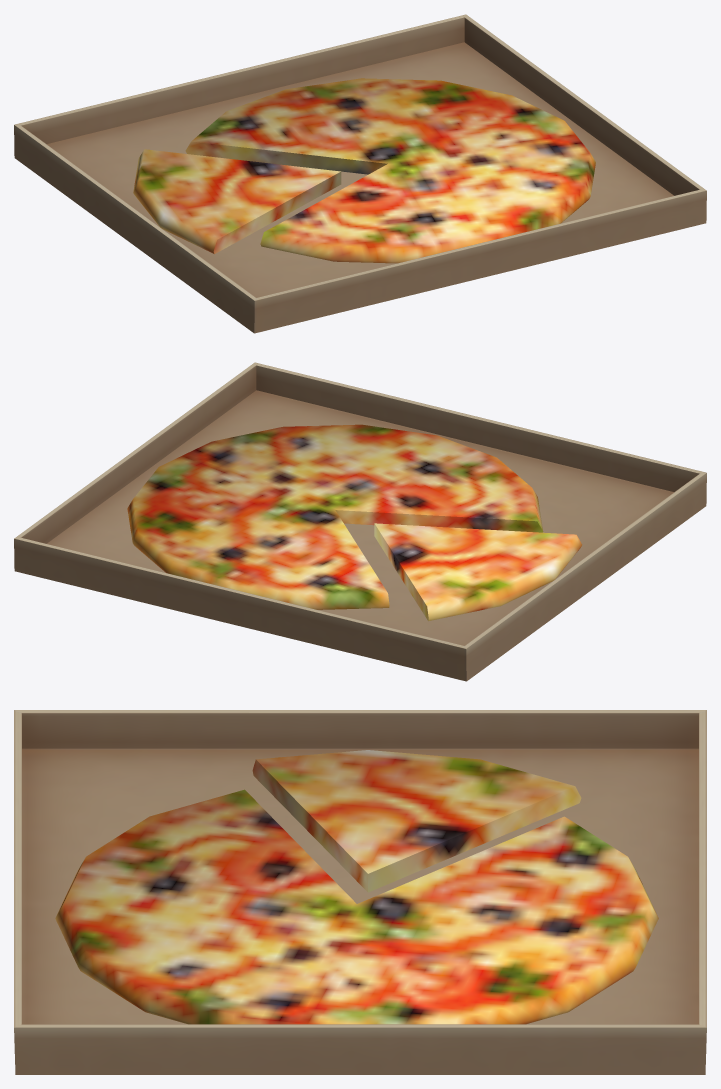
Rendered from ShenMiRenJia_01_pisa_01.FBX.
3 views of the same model, one above another, from view 1: azimuth 30°, elevation 25°; view 2: azimuth 150°, elevation 25°; view 3: azimuth 270°, elevation 25° (orthographic). The views are drawn at different scales.
Parts seen in each view (by area): view 1: ShenMiRenJia_01_pisa_01; view 2: ShenMiRenJia_01_pisa_01; view 3: ShenMiRenJia_01_pisa_01.
Boxes of the visible parts, box(x1,y1,x2,y2) form: ShenMiRenJia_01_pisa_01: box(14, 14, 706, 333); ShenMiRenJia_01_pisa_01: box(14, 362, 706, 681); ShenMiRenJia_01_pisa_01: box(14, 710, 706, 1074).
Size of the model in its own units: 167 by 11.64 by 154.
